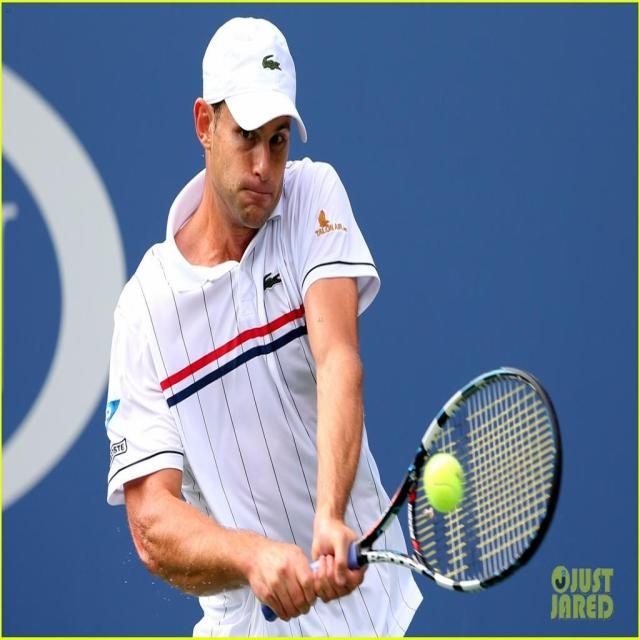Face: (204, 83, 299, 237)
